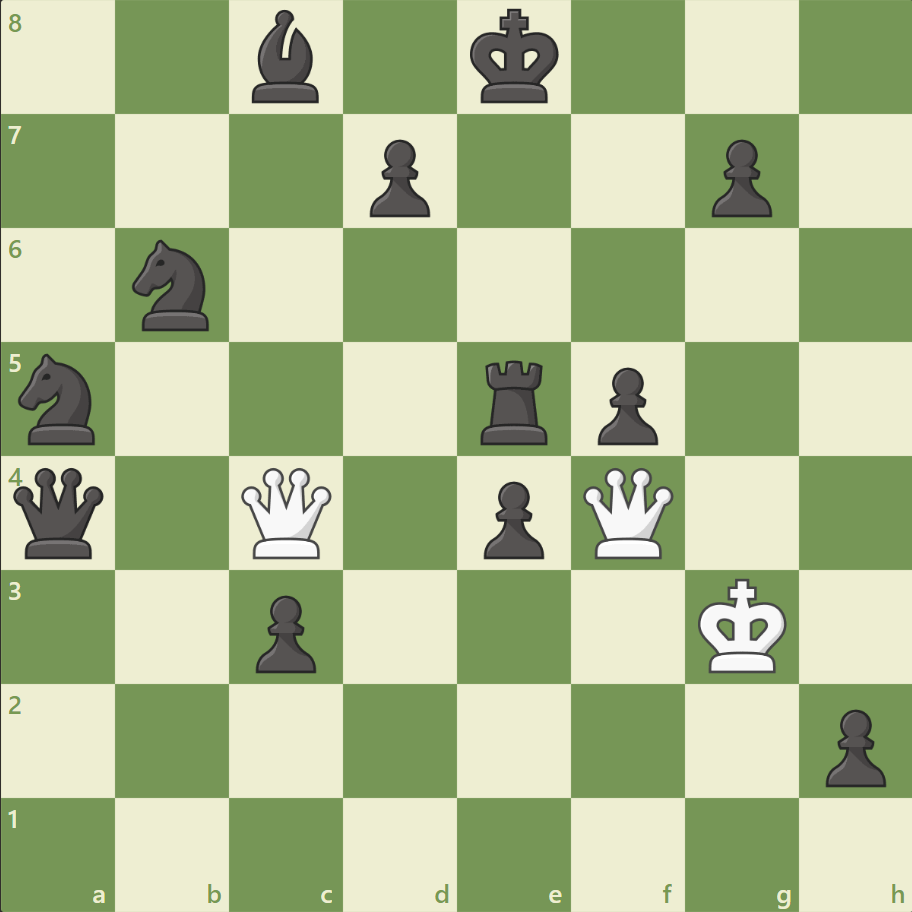K: (692, 571, 792, 679)
Q: (237, 463, 336, 562), (578, 463, 677, 562)
b: (244, 6, 328, 109)
k: (465, 4, 565, 112)
n: (124, 234, 222, 337), (11, 348, 108, 450)
p: (701, 132, 776, 223), (474, 473, 549, 564), (247, 586, 322, 677), (361, 132, 435, 223), (588, 359, 662, 450), (815, 700, 889, 791)
q: (10, 463, 109, 562)
r: (473, 352, 556, 449)
